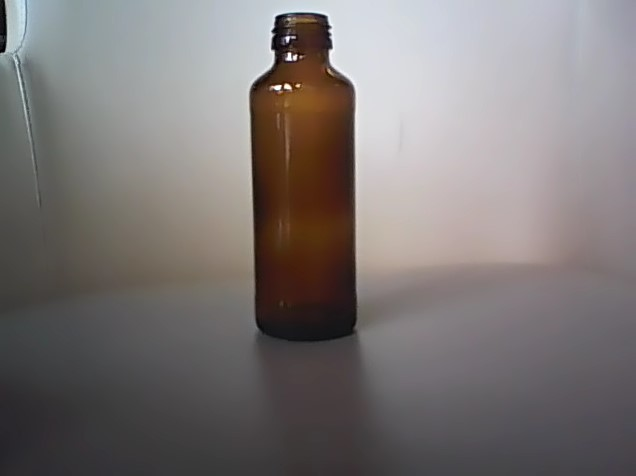Glass: (246, 6, 365, 349)
